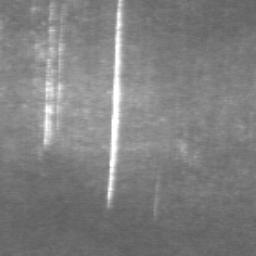Bright scratch: (108, 0, 122, 202), (44, 43, 63, 144)
